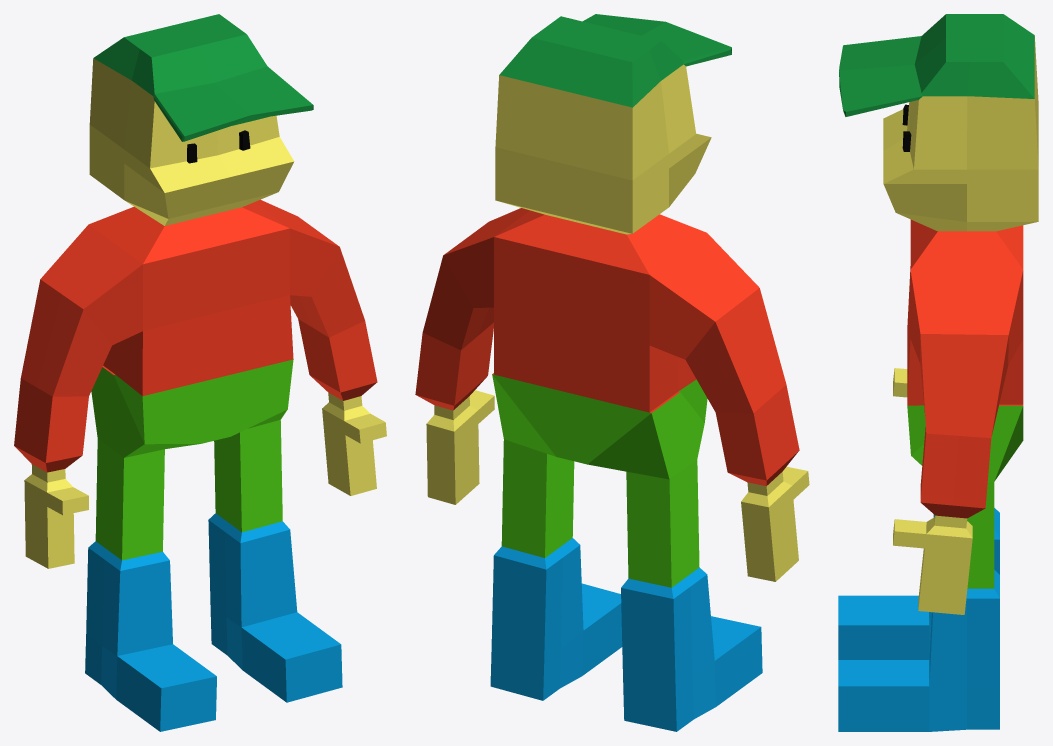
Rendered from HumanCap4.fbx.
3 views of the same model, side by side, from view 1: azimuth 30°, elevation 25°; view 2: azimuth 150°, elevation 25°; view 3: azimuth 270°, elevation 25° (orthographic). The views are drawn at different scales.
Parts seen in each view (by area): view 1: HatHuman.001; view 2: HatHuman.001; view 3: HatHuman.001.
Boxes of the visible parts, x1,y1,x2,y2 form: HatHuman.001: (14,14,386,731); HatHuman.001: (415,14,809,731); HatHuman.001: (838,14,1038,731).
Size of the model in its own units: 227 by 409 by 114.
